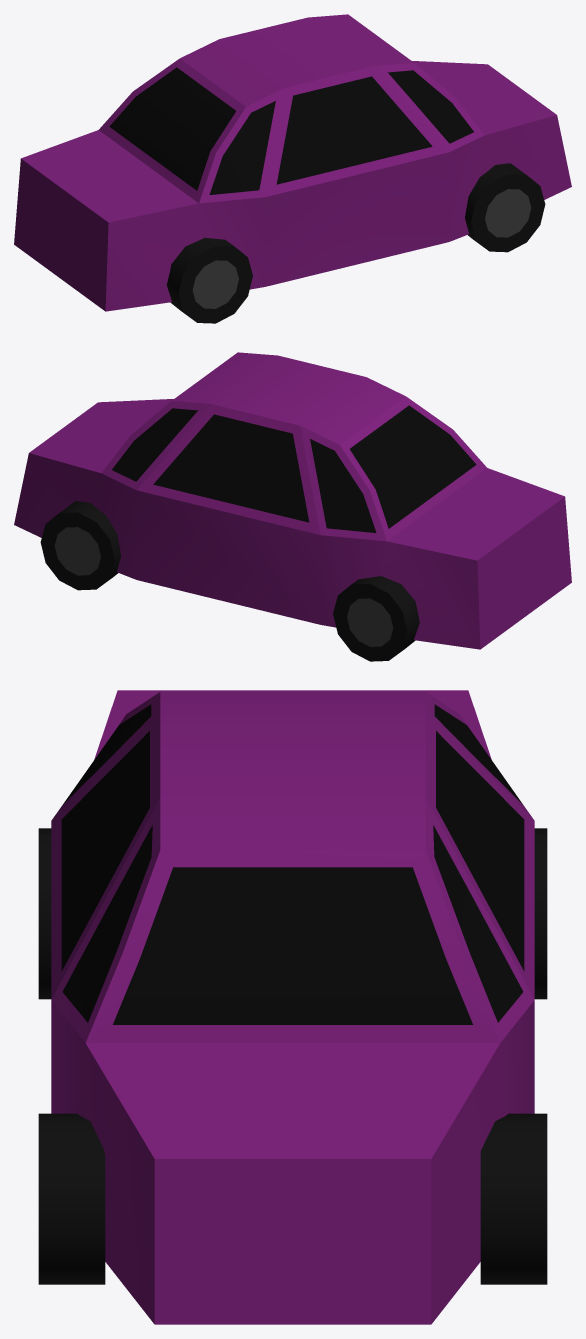
The model's file is Car_Purple.FBX.
3 renders of one model, top to bottom at view 1: azimuth 30°, elevation 25°; view 2: azimuth 150°, elevation 25°; view 3: azimuth 270°, elevation 25°, orthographic. The views are drawn at different scales.
Visible parts, largest first — view 1: Car_Purple; view 2: Car_Purple; view 3: Car_Purple.
Boxes of the visible parts, x1,y1,x2,y2 form: Car_Purple: [14, 14, 571, 323]; Car_Purple: [14, 352, 571, 661]; Car_Purple: [38, 690, 547, 1324].
Size of the model in its own units: 749 by 283 by 345.
